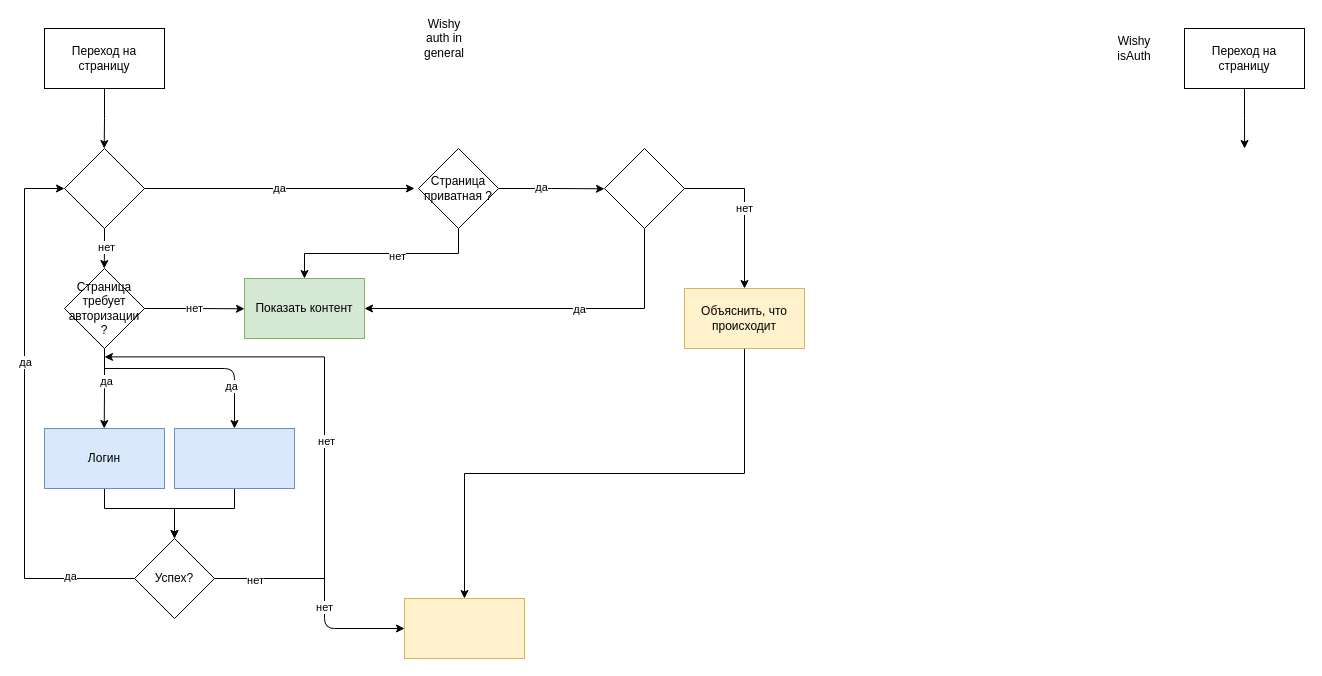
The diagram is 1322 pixels wide and 676 high, and some of its shapes have lost their labels. Each missing label, with the centre of its shape:
"is user authed ?" belongs at pixel 104 188.
"Есть доступ?" belongs at pixel 644 188.
"На главную" belongs at pixel 464 628.
"Регистрация" belongs at pixel 234 458.
